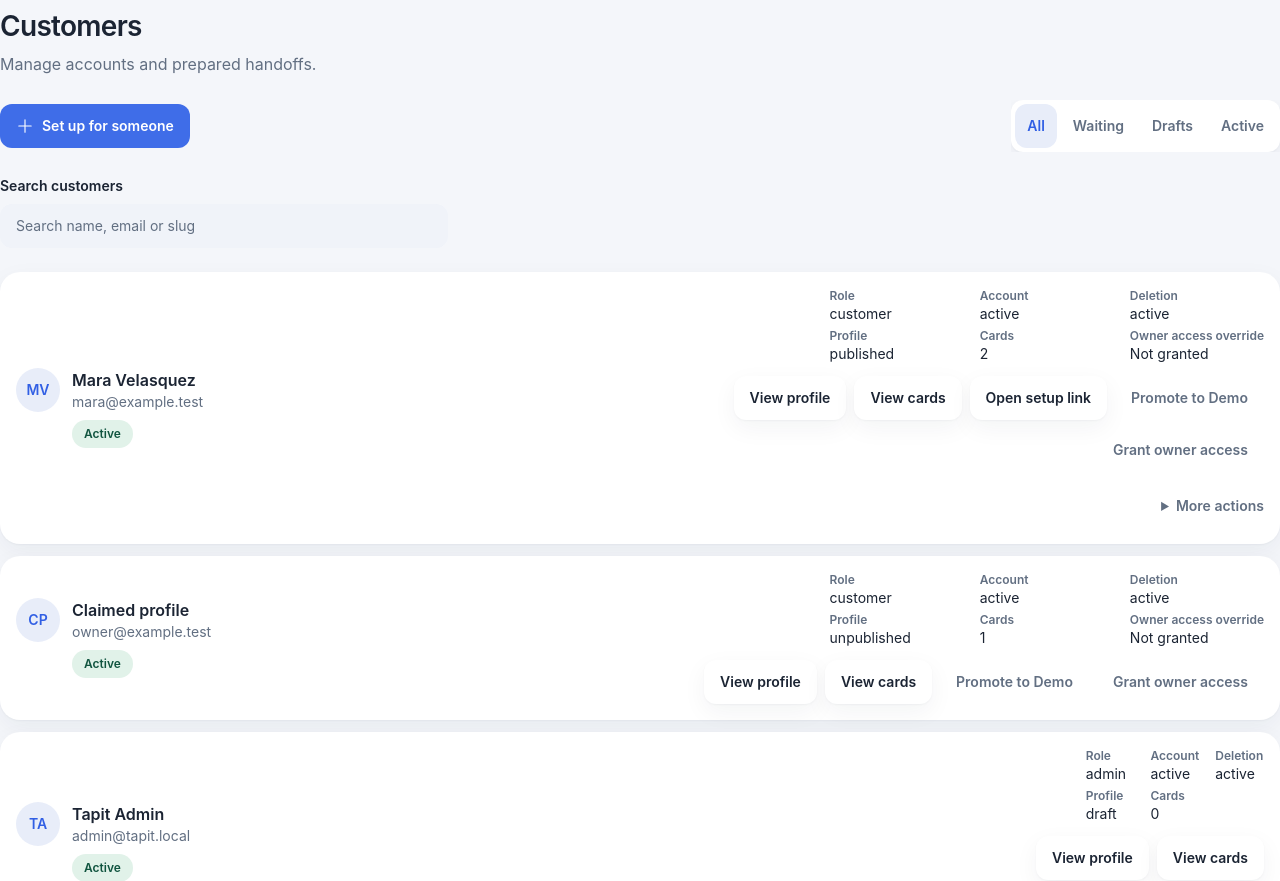
Test: paginated administrator account lists › shows a local storage error without changing the override or audit log
This screenshot has width=1280, height=881.
Step 1. Click the button "Grant owner access" below "Open setup link" → (1180, 450), box x1=1097 y1=428 x2=1264 y2=472
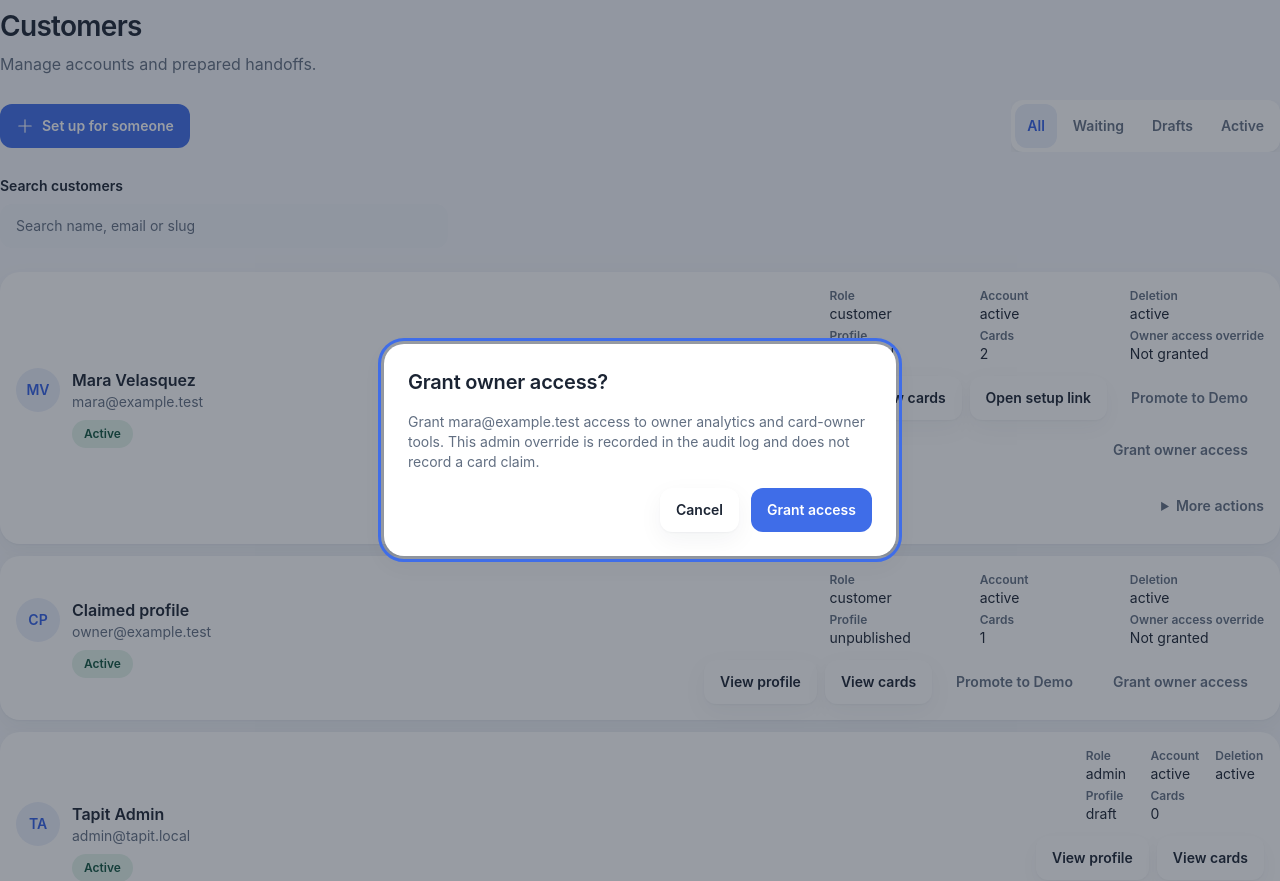
Step 2. Click the button "Grant access" → (812, 510), box x1=751 y1=488 x2=872 y2=532
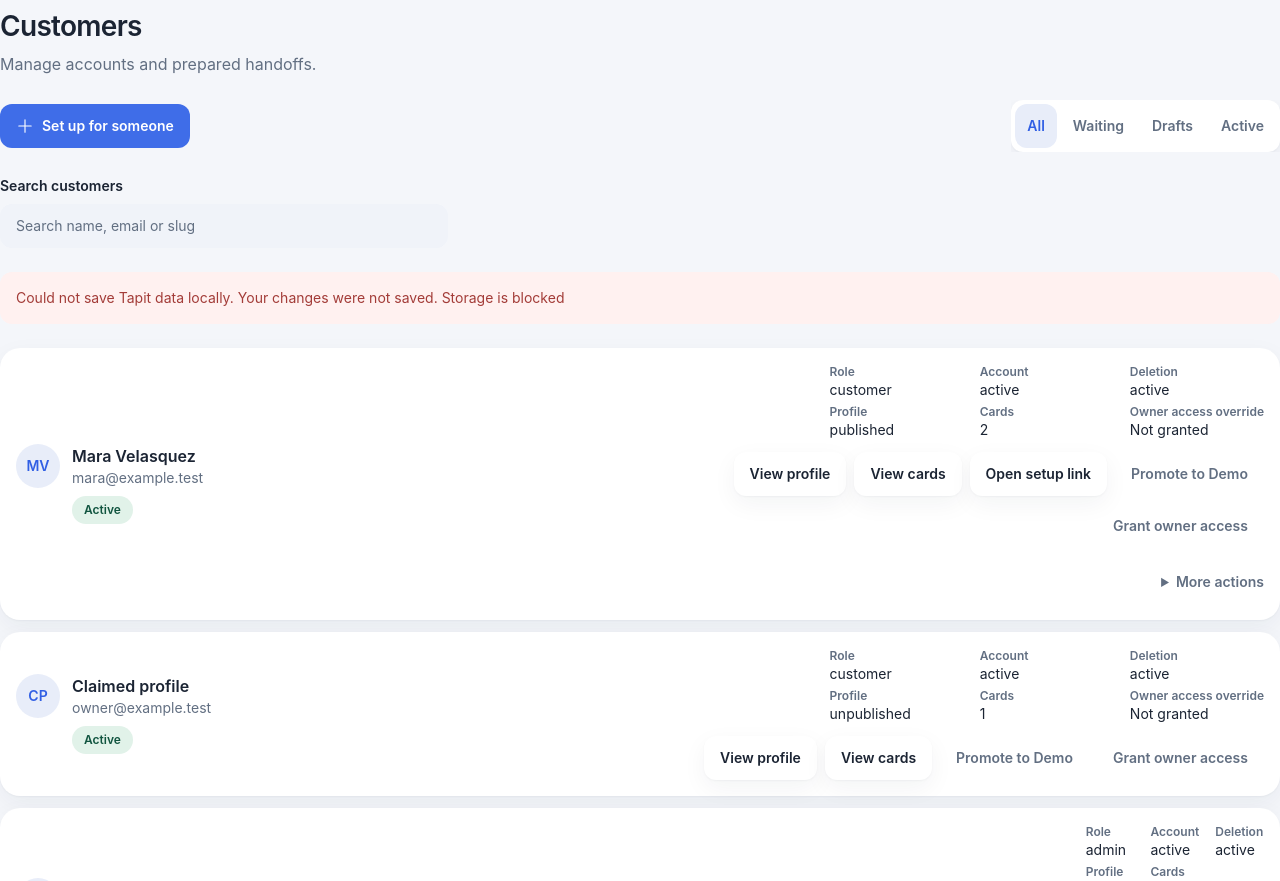
Check: the message shows "Could not save Tapit data locally", box x1=16 y1=289 x2=564 y2=306
